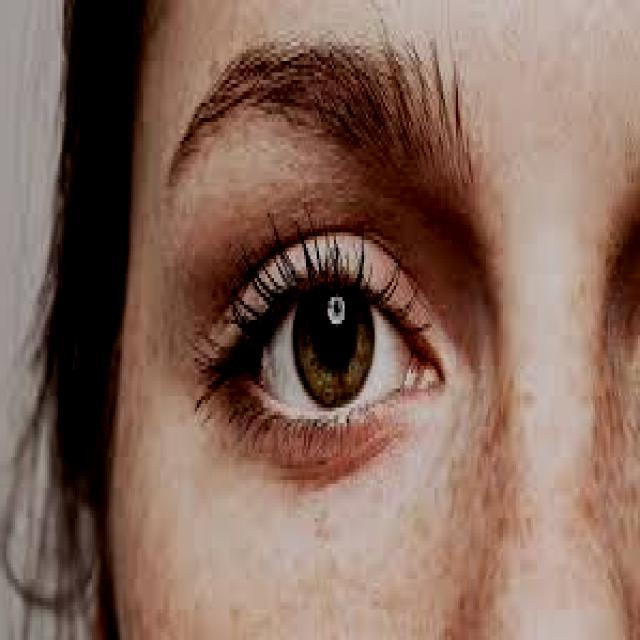Normal: (102, 223, 498, 488)
